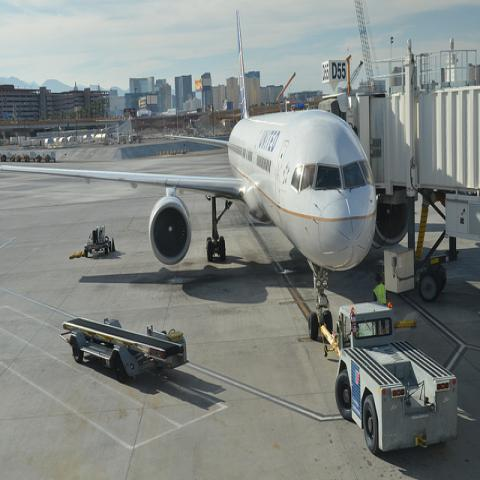truck: (336, 300, 458, 456)
